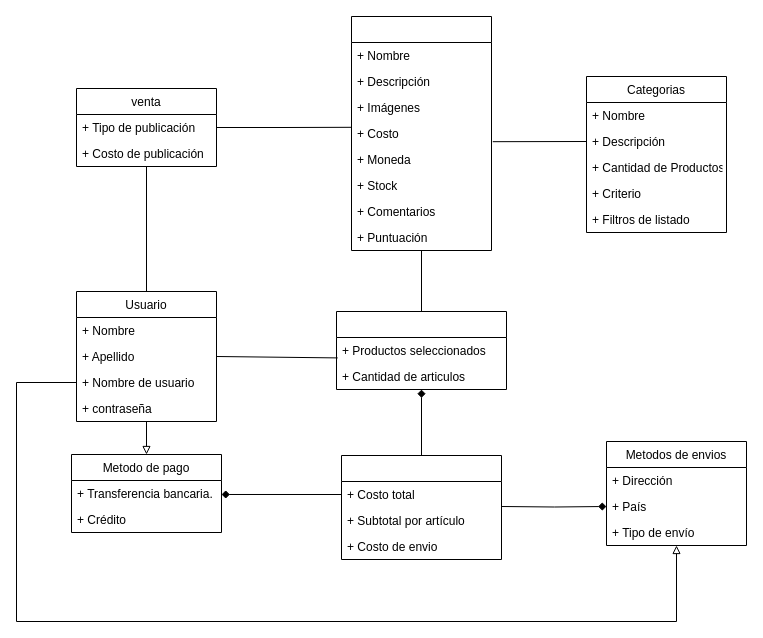
Some shapes in this 763 by 638 pixel diagram are drawn without their labels. Each missing label, with the box of its shape:
Carrito de compras: (340, 454, 502, 560)
Compra: (336, 310, 506, 390)
Producto: (350, 16, 492, 250)
